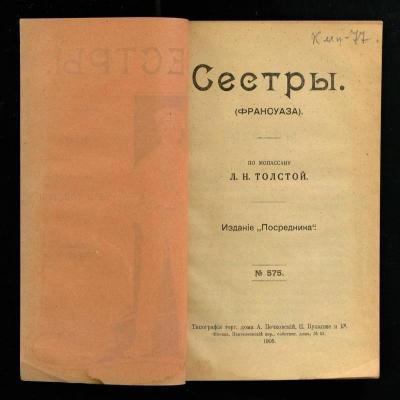rare_books: (20, 18, 400, 386)
